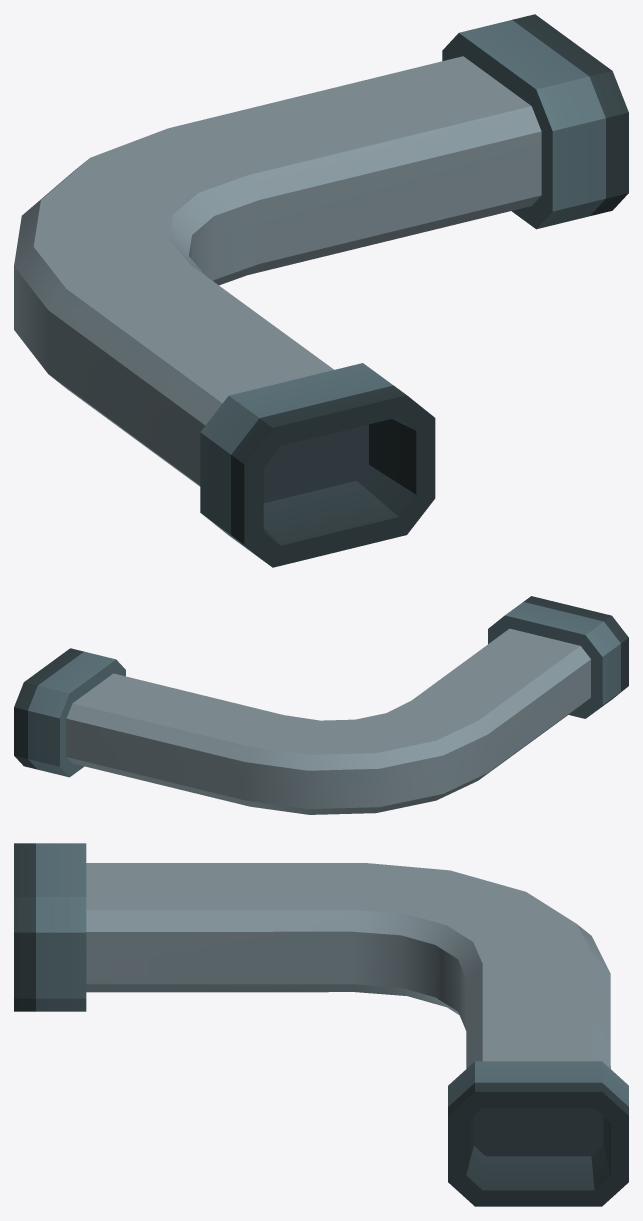
File: Vent_tube_004.glb
3 renders of one model, top to bottom at view 1: azimuth 30°, elevation 25°; view 2: azimuth 150°, elevation 25°; view 3: azimuth 270°, elevation 25°, orthographic. The views are drawn at different scales.
Parts seen in each view (by area): view 1: Vent_tube_004; view 2: Vent_tube_004; view 3: Vent_tube_004.
Boxes of the visible parts, bbox=[...] form: Vent_tube_004: bbox=[14, 14, 628, 567]; Vent_tube_004: bbox=[14, 596, 628, 814]; Vent_tube_004: bbox=[14, 843, 628, 1206].
Bounding box in the file's own units: 1.7 × 0.35 × 1.7.
1 material, 1 textured.
